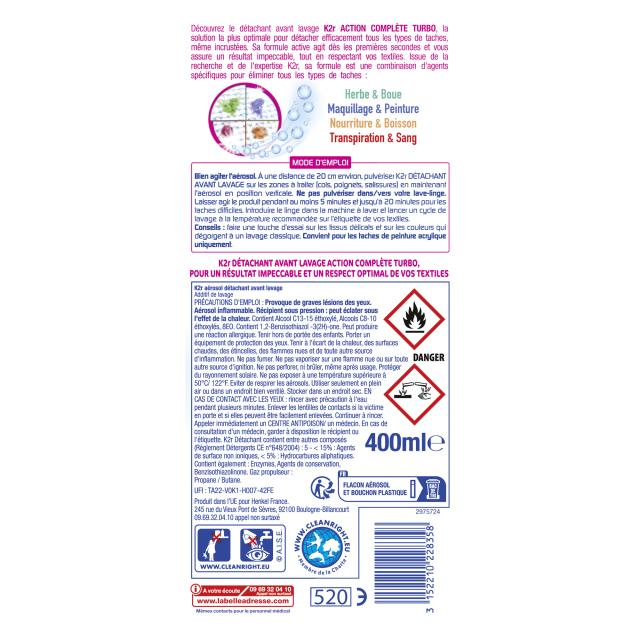GHS_Symbol_CORROSION: (384, 363, 446, 426)
GHS_Symbol_FLAME: (385, 288, 444, 350)
